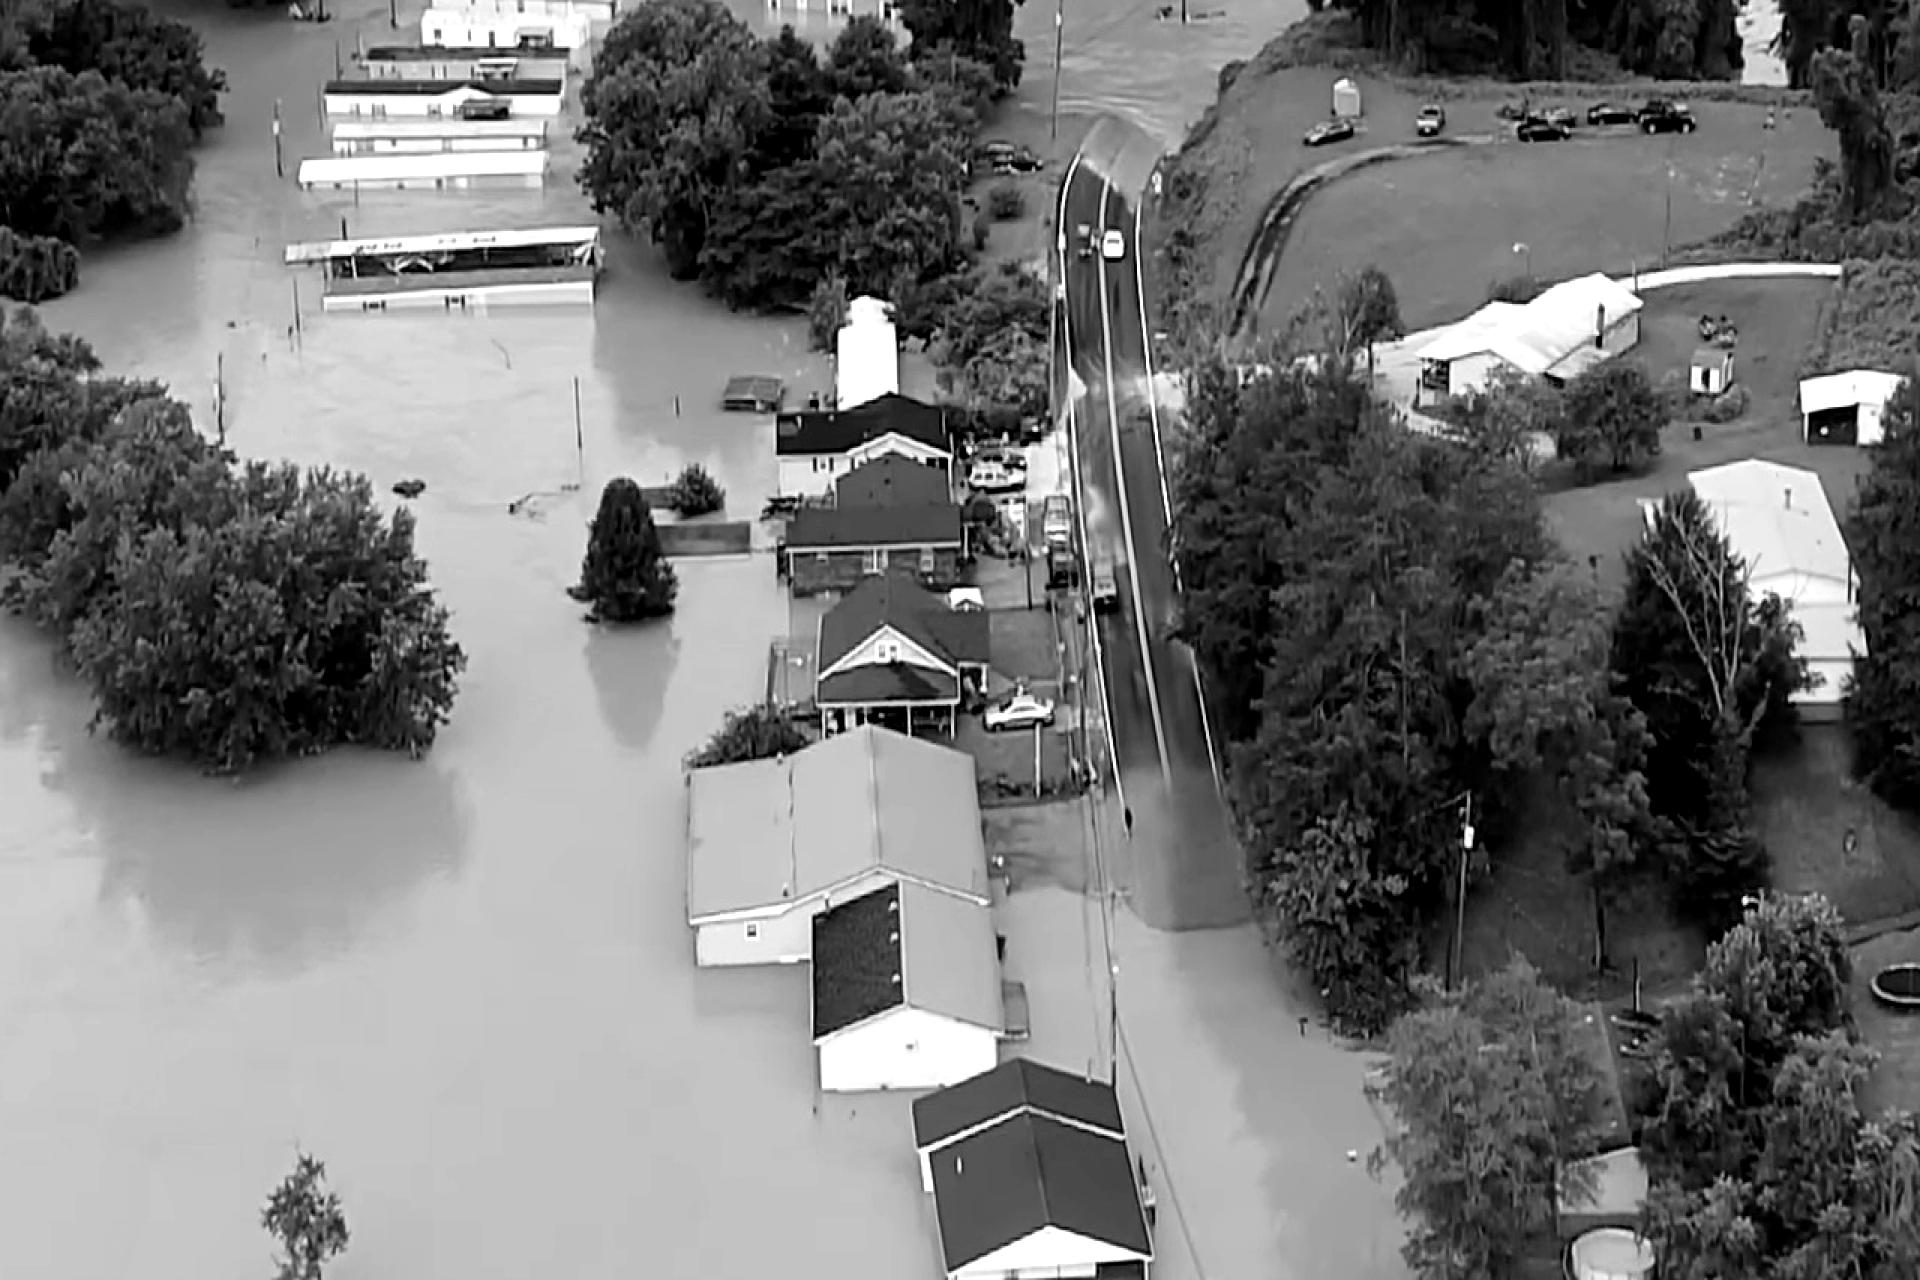House: (687, 723, 1004, 1087), (909, 1056, 1153, 1280), (1549, 1006, 1671, 1221), (816, 570, 990, 719), (783, 454, 964, 583), (774, 389, 950, 480), (299, 151, 550, 194), (324, 79, 560, 114), (756, 0, 899, 31)
Vehicle: (983, 696, 1056, 729), (964, 447, 1029, 476), (971, 461, 1026, 491), (1041, 494, 1071, 546), (1047, 540, 1079, 589), (1091, 553, 1119, 606), (1103, 229, 1124, 260)
